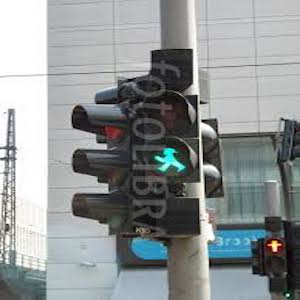green: (151, 144, 189, 176)
